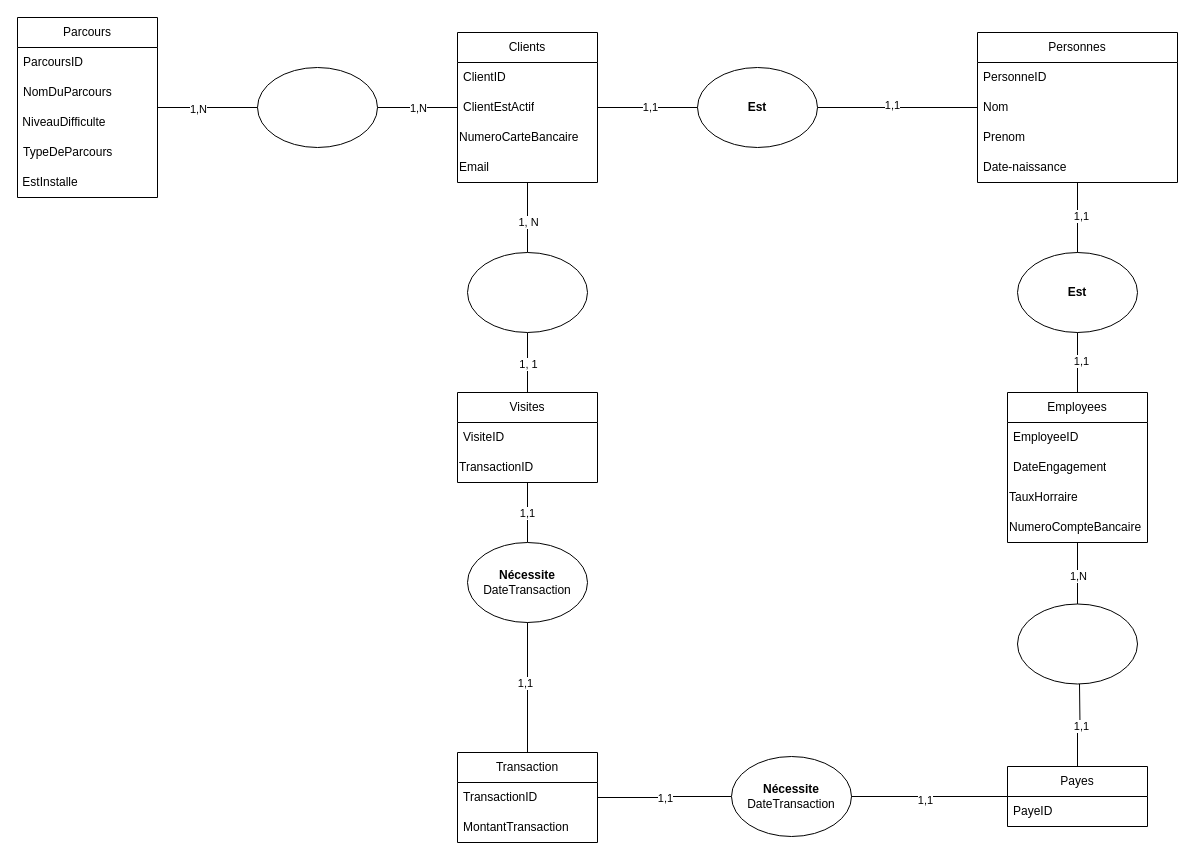
Image size: 1195x860. Some labels were removed from this diagram. Each missing label, with the centre of its shape:
Effectue: point (317, 107)
Effectue HeureEntree HeureSortie: point (527, 292)
Reçoit: point (1077, 643)
